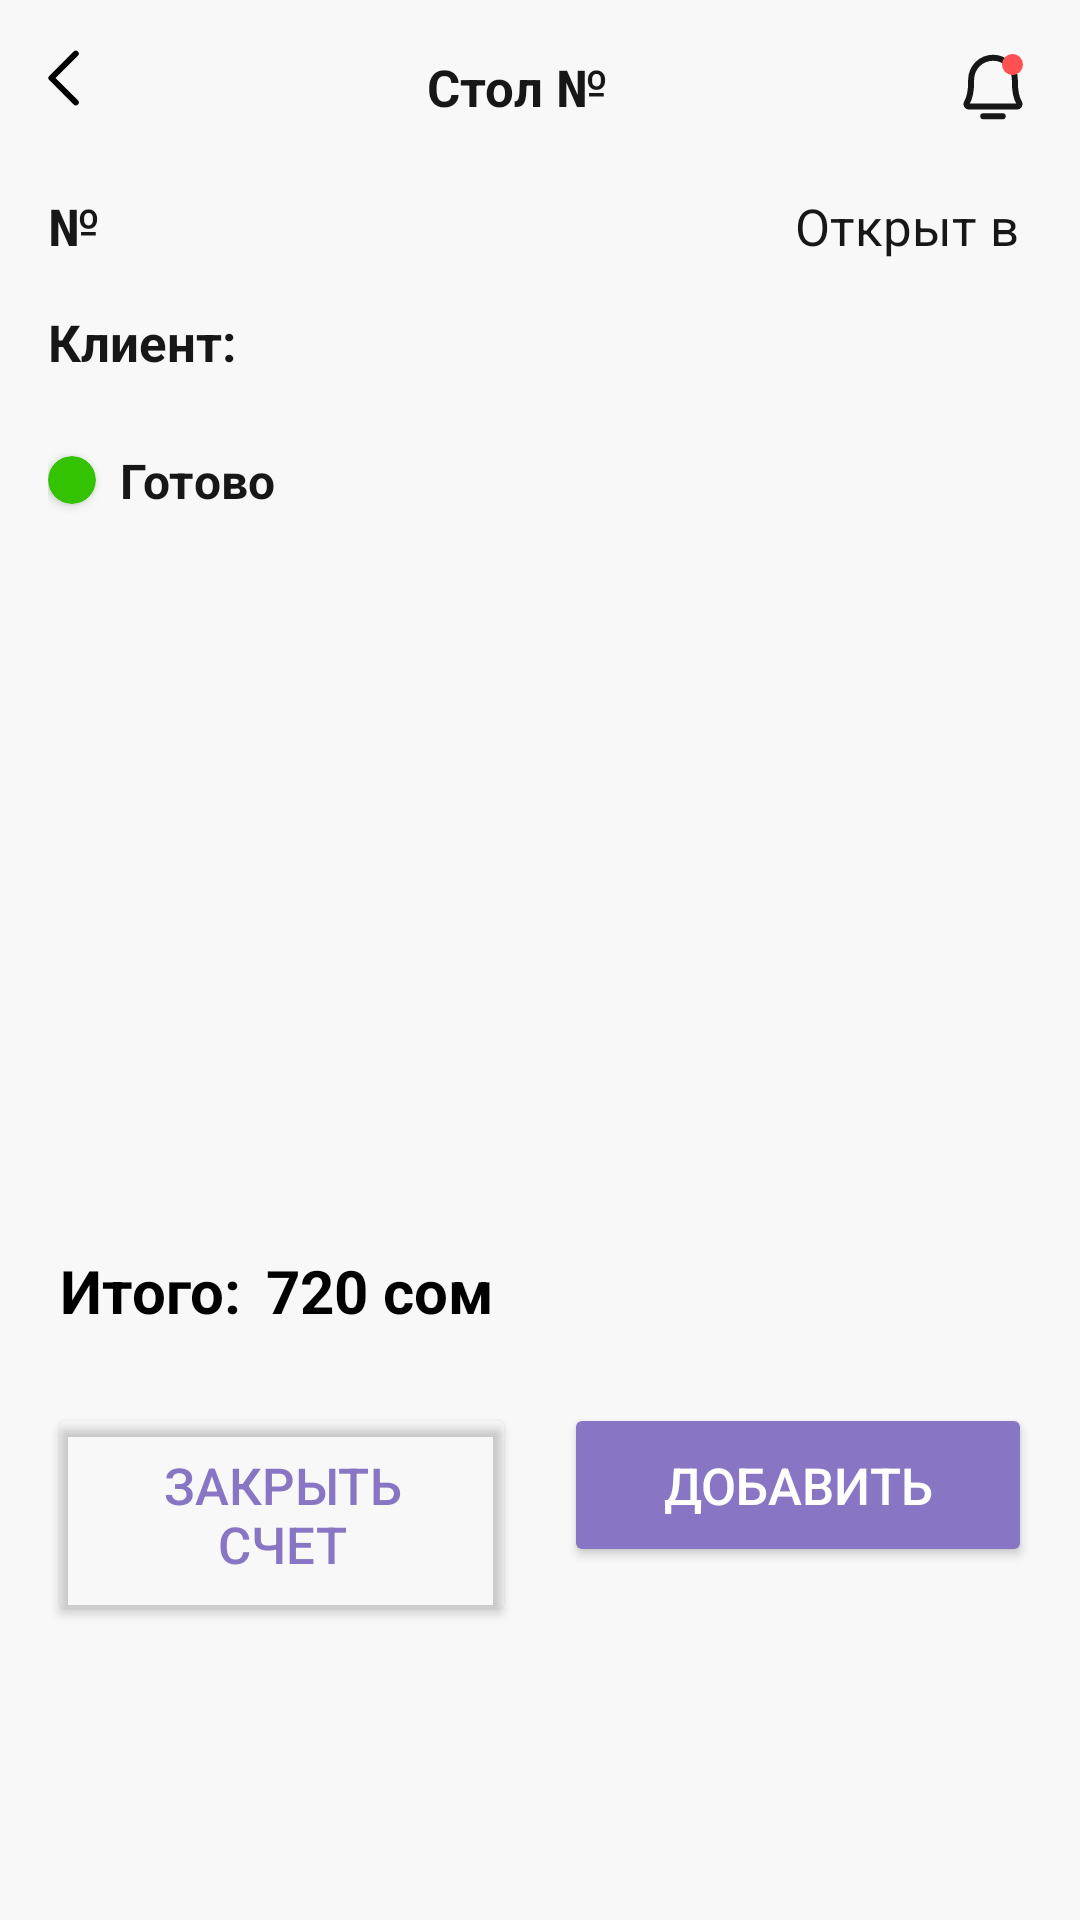

Icon click points for this 1080 x 1920 phone screenshot, format (x=x, y=y):
arrow back: (x=63, y=78)
notification: (x=993, y=87)
